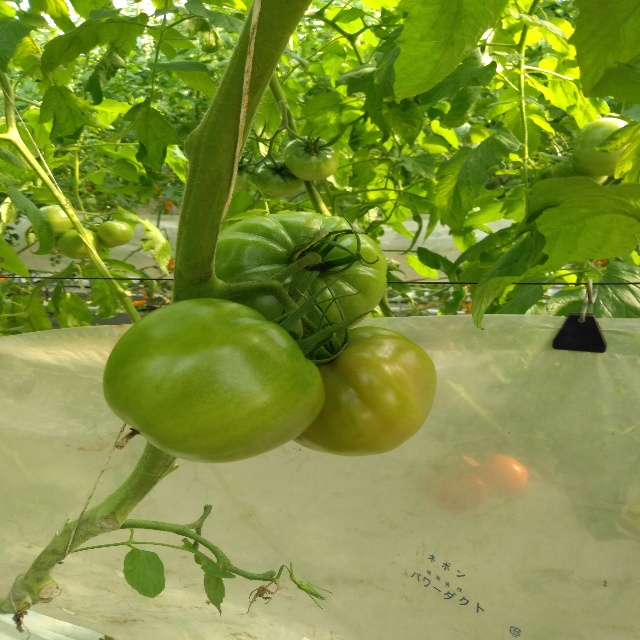b_green: (101, 297, 325, 463), (211, 211, 388, 338), (292, 325, 437, 456), (572, 118, 633, 177), (281, 137, 338, 182), (255, 156, 304, 198), (57, 228, 102, 259), (39, 205, 75, 238), (95, 220, 134, 248)
